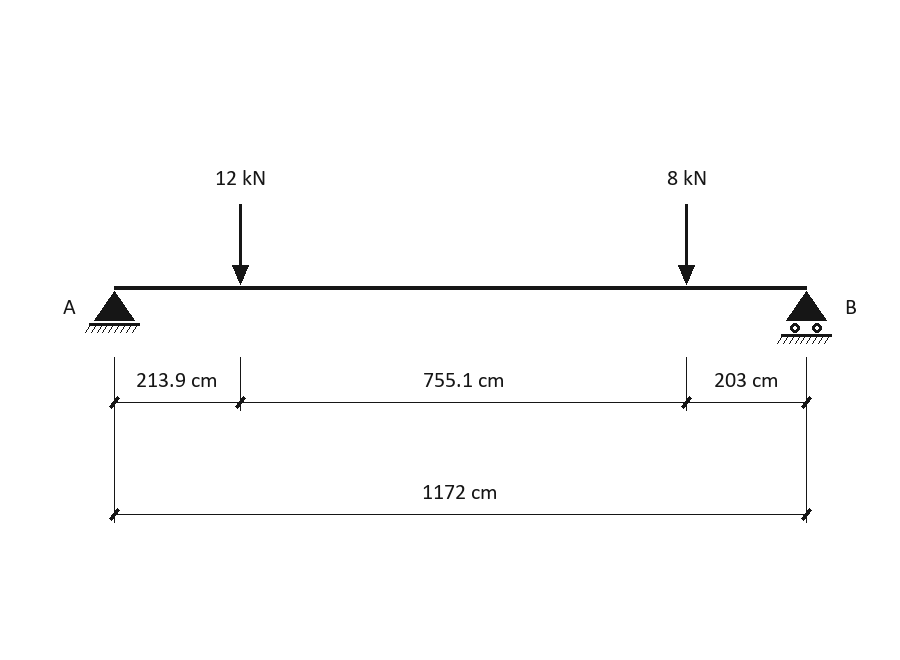pin_support: (85, 291, 140, 333)
point_load: (232, 204, 249, 285), (678, 204, 695, 285)
roller_support: (777, 291, 832, 344)
